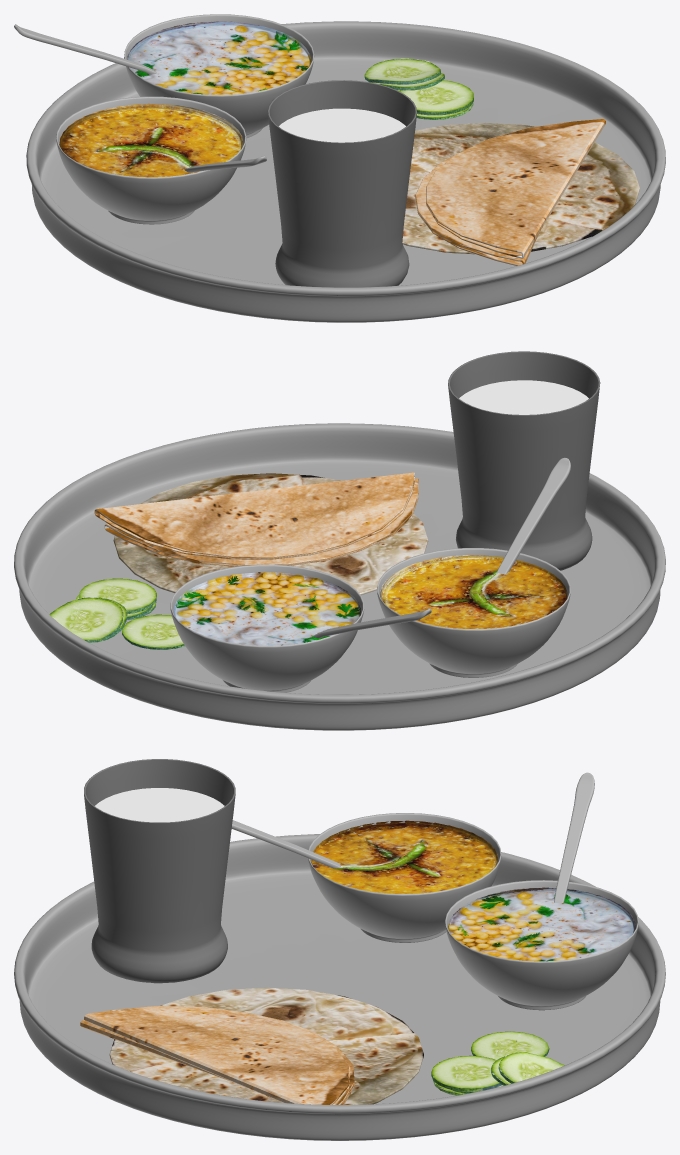
The model's file is indian_thali__free.glb.
3 renders of one model, top to bottom at view 1: azimuth 30°, elevation 25°; view 2: azimuth 150°, elevation 25°; view 3: azimuth 270°, elevation 25°, orthographic.
Visible parts, largest first — view 1: pCylinder3, pCylinder1, pPlane12, pDisc1, pCylinder6, pCylinder5, pSphere8, pSphere10, pCylinder13, pCylinder4, pPlane11, pPlane8 (+1 smaller); view 2: pCylinder3, pCylinder1, pPlane12, pCylinder6, pCylinder5, pDisc1, pSphere10, pSphere8, pCylinder13, pCylinder4, pPlane11, pPlane4 (+1 smaller); view 3: pCylinder3, pCylinder1, pPlane12, pDisc1, pCylinder6, pCylinder5, pSphere10, pSphere8, pCylinder13, pCylinder4, pPlane8, pPlane11 (+1 smaller).
Boxes of the visible parts, bbox=[...] form: pCylinder3: bbox=[26, 21, 665, 322]; pCylinder1: bbox=[267, 80, 416, 287]; pPlane12: bbox=[426, 119, 605, 258]; pDisc1: bbox=[402, 122, 639, 254]; pCylinder6: bbox=[127, 21, 310, 94]; pCylinder5: bbox=[59, 103, 243, 177]; pSphere8: bbox=[56, 96, 246, 224]; pSphere10: bbox=[124, 14, 314, 138]; pCylinder13: bbox=[364, 58, 473, 119]; pCylinder4: bbox=[279, 108, 405, 142]; pPlane11: bbox=[415, 146, 539, 265]; pPlane8: bbox=[14, 24, 157, 74]; pCylinder3: bbox=[14, 423, 665, 730]; pCylinder1: bbox=[448, 351, 600, 570]; pPlane12: bbox=[94, 472, 415, 559]; pCylinder6: bbox=[173, 572, 360, 645]; pCylinder5: bbox=[380, 555, 567, 628]; pDisc1: bbox=[113, 473, 428, 595]; pSphere10: bbox=[170, 564, 364, 692]; pSphere8: bbox=[377, 548, 570, 677]; pCylinder13: bbox=[49, 578, 184, 649]; pCylinder4: bbox=[459, 380, 588, 414]; pPlane11: bbox=[104, 478, 418, 566]; pPlane4: bbox=[496, 457, 570, 574]; pCylinder3: bbox=[14, 834, 665, 1140]; pCylinder1: bbox=[84, 759, 235, 983]; pPlane12: bbox=[84, 1006, 350, 1104]; pDisc1: bbox=[109, 987, 423, 1104]; pCylinder6: bbox=[448, 887, 635, 961]; pCylinder5: bbox=[311, 820, 498, 893]; pSphere10: bbox=[445, 880, 638, 1010]; pSphere8: bbox=[308, 813, 501, 942]; pCylinder13: bbox=[431, 1031, 564, 1095]; pCylinder4: bbox=[95, 788, 224, 822]; pPlane8: bbox=[554, 772, 594, 903]; pPlane11: bbox=[80, 1011, 354, 1104].
Size of the model in its own units: 0.0576 by 0.0167 by 0.0576.
Materials: 14 (6 with a texture image).
